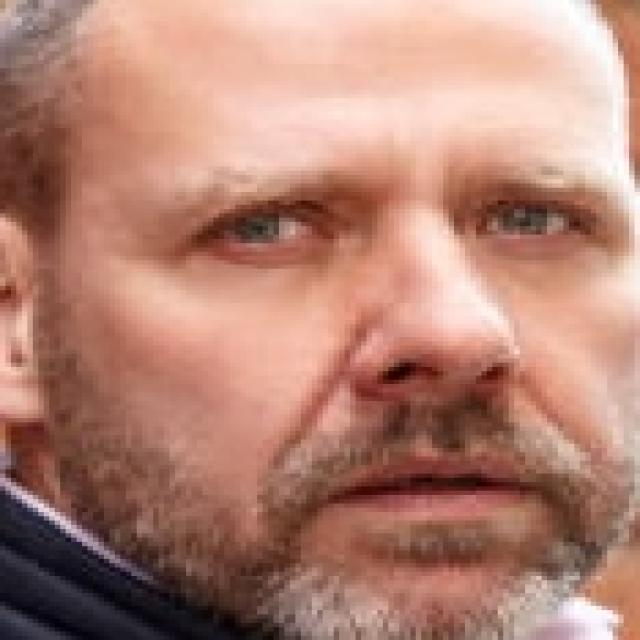Anxiety: (32, 0, 635, 636)
